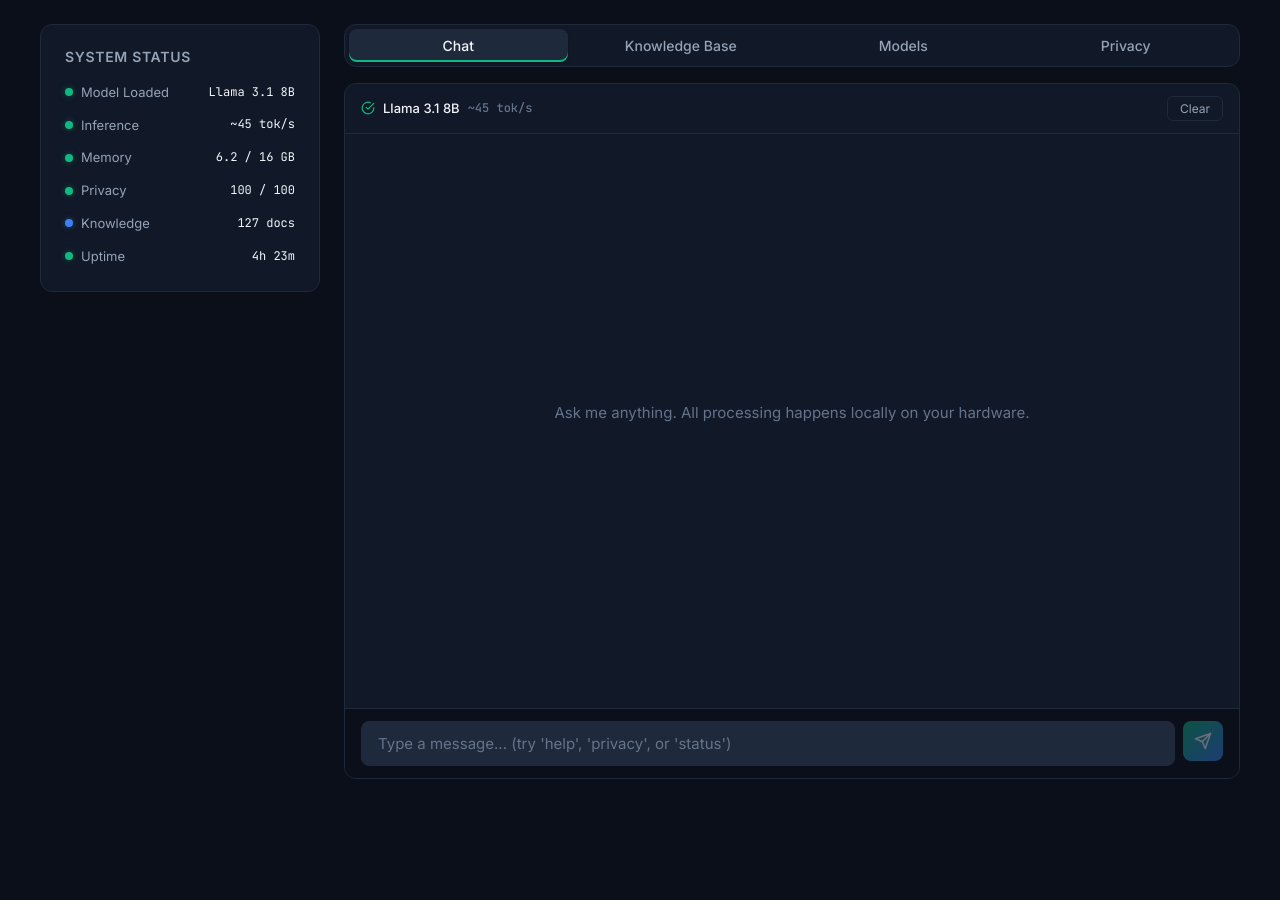
DashboardPage › searches knowledge base documents
Click the tab "Knowledge Base". click: (681, 46)
box: [572, 29, 790, 62]
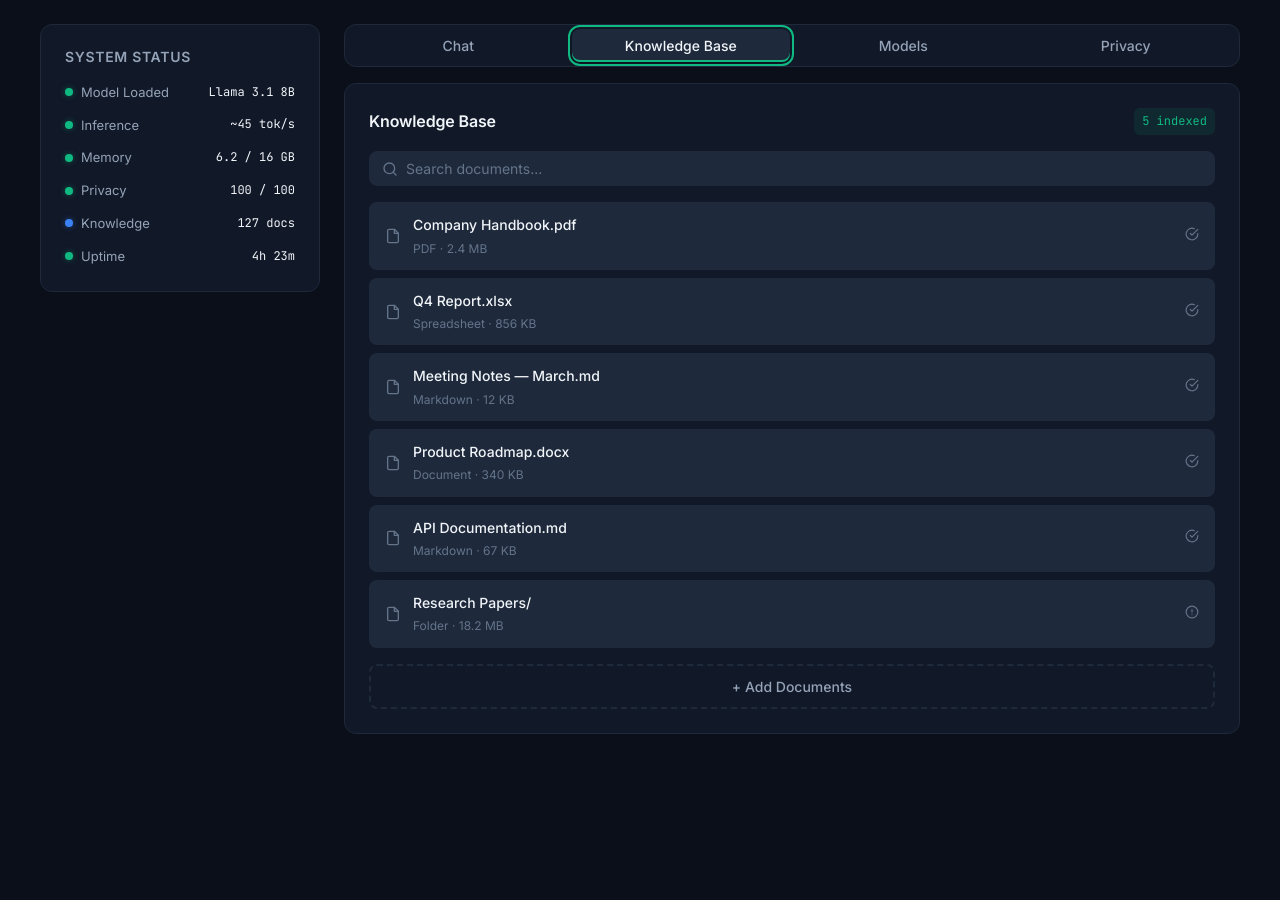
Type "handbook" into the field named "Search knowledge base". click: (804, 169)
box: [406, 160, 1202, 177]
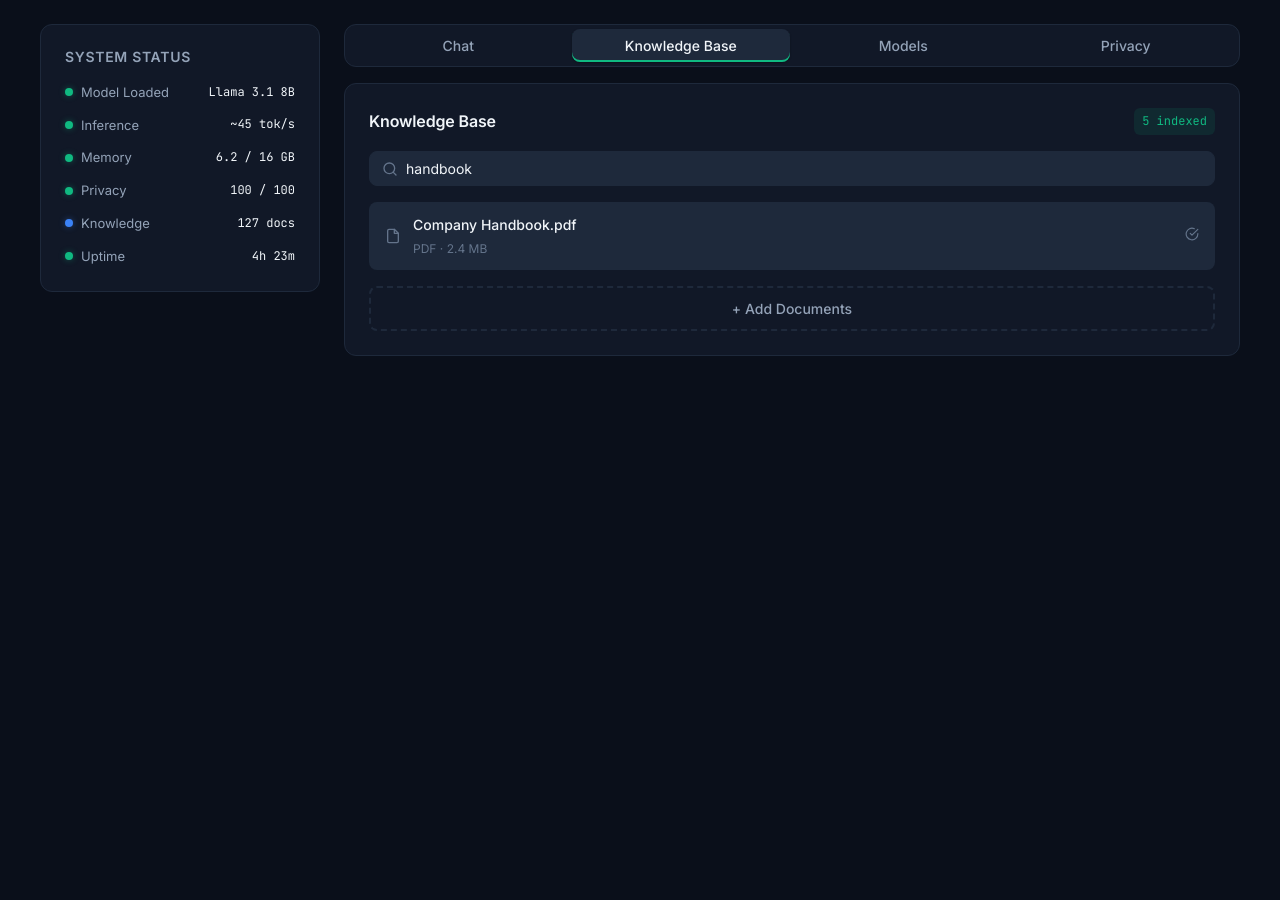
Expected: the text "Company Handbook.pdf" is shown, [413, 216, 577, 233]
Expected: the text "Q4 Report.xlsx" is gone
